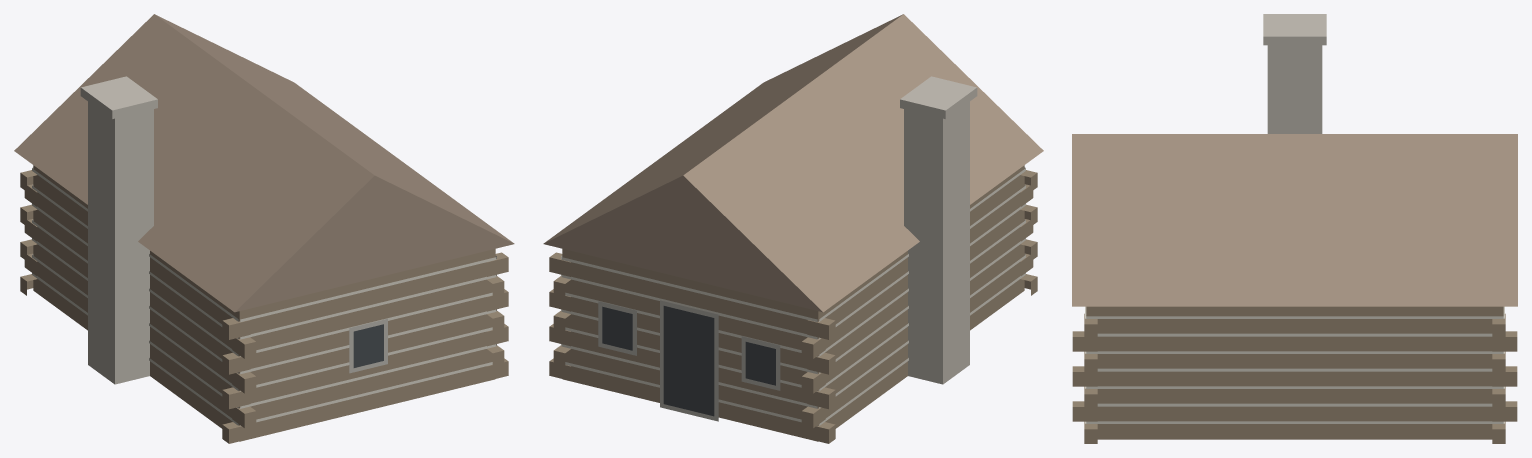
The model's file is recon_1835_north_d1_060__inferred_1835.glb.
The picture shows the model from 3 angles, left to right: view 1: azimuth 30°, elevation 25°; view 2: azimuth 150°, elevation 25°; view 3: azimuth 270°, elevation 25°; orthographic projection.
Parts seen in each view (by area): view 1: recon_1835_north_d1_060__inferred_1835; view 2: recon_1835_north_d1_060__inferred_1835; view 3: recon_1835_north_d1_060__inferred_1835.
Boxes of the visible parts, box(x1,y1,x2,y2) form: recon_1835_north_d1_060__inferred_1835: box(14, 14, 514, 443); recon_1835_north_d1_060__inferred_1835: box(543, 14, 1043, 443); recon_1835_north_d1_060__inferred_1835: box(1072, 14, 1517, 443).
Bounding box in the file's own units: 6.33 × 5.5 × 7.84.
